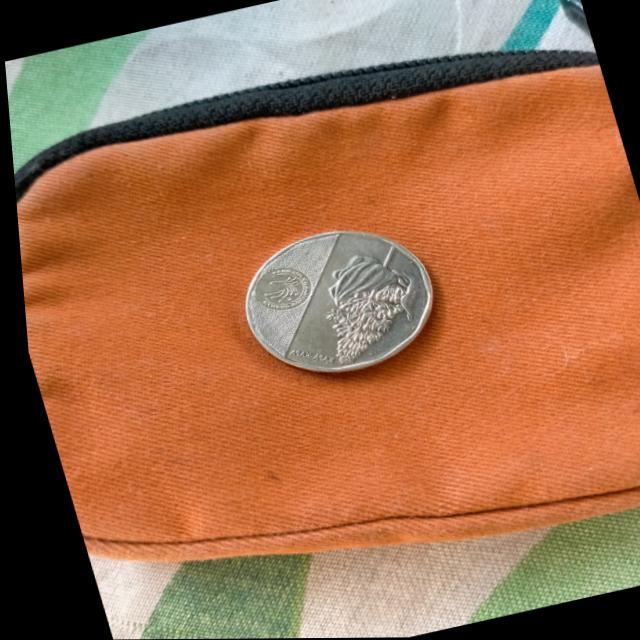10_New_Back: (297, 244, 424, 375)
